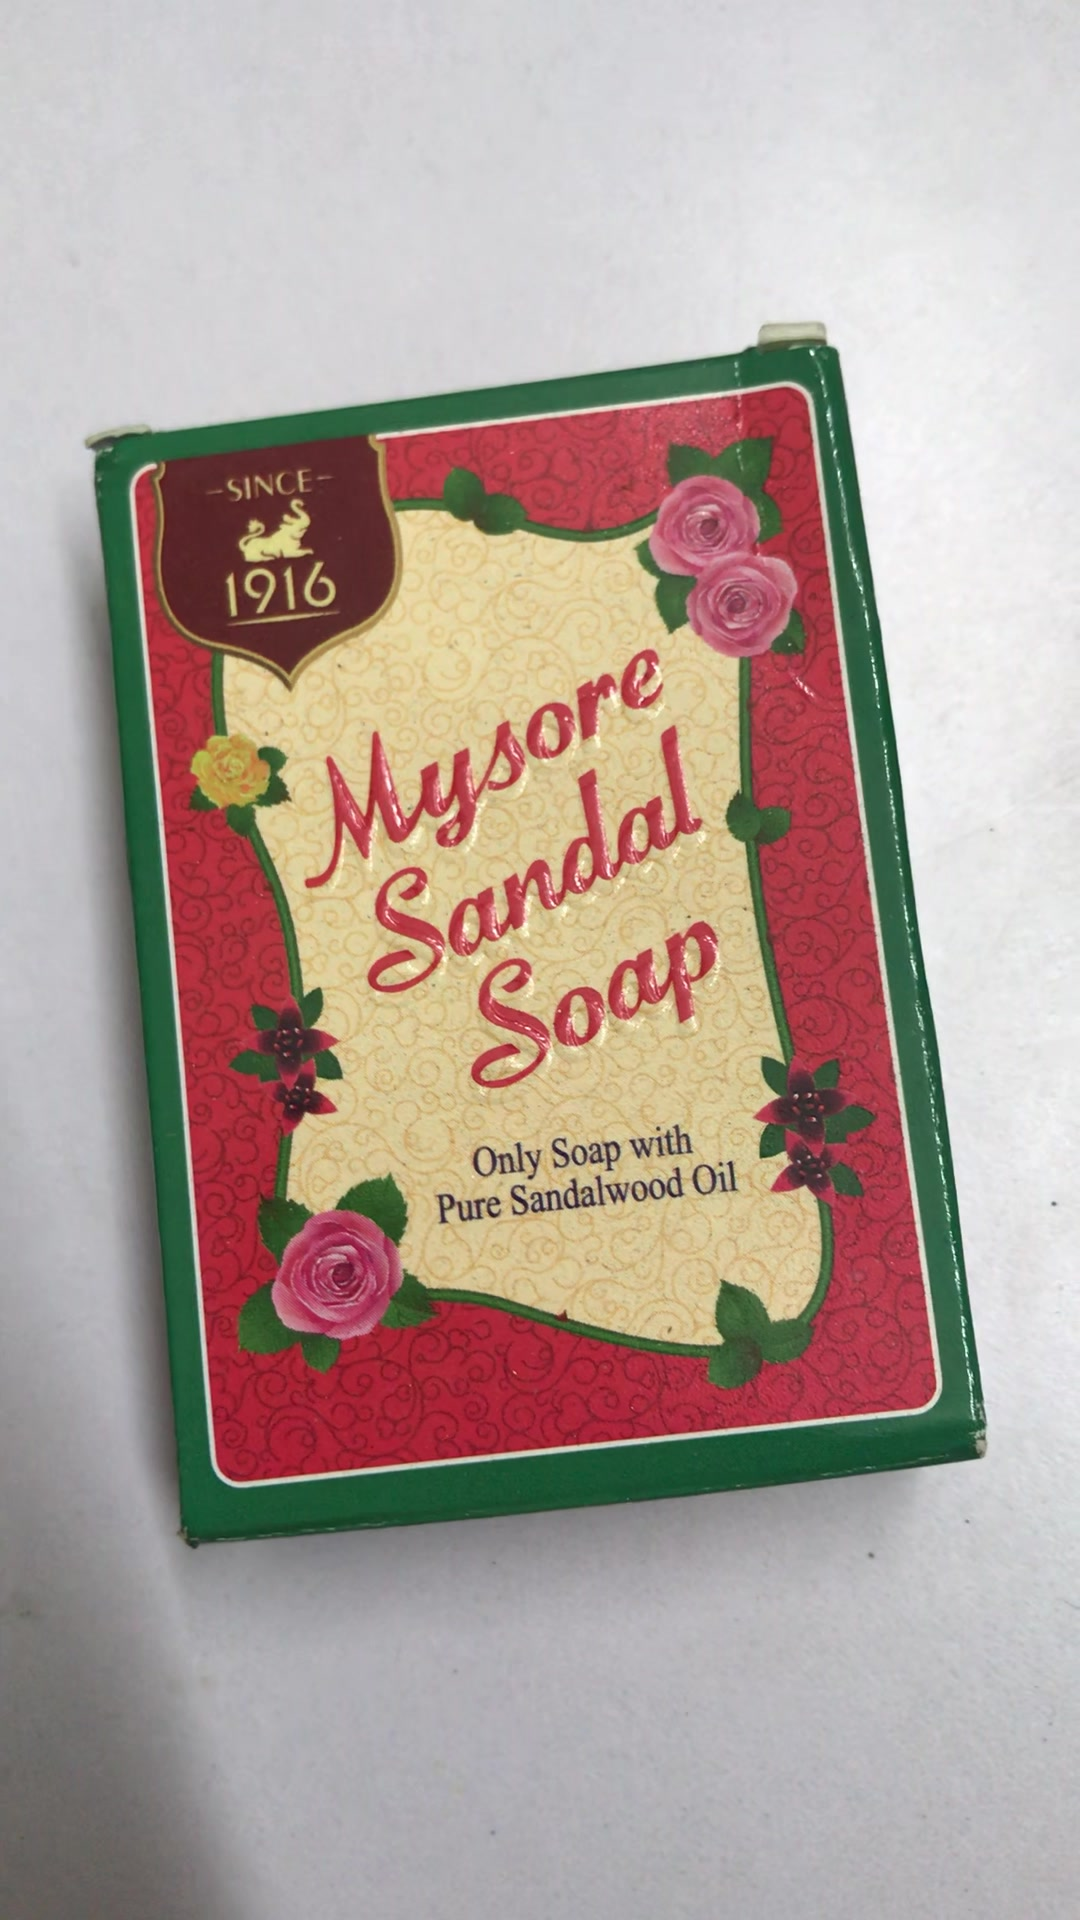mysore sandal soap: (82, 336, 988, 1548)
